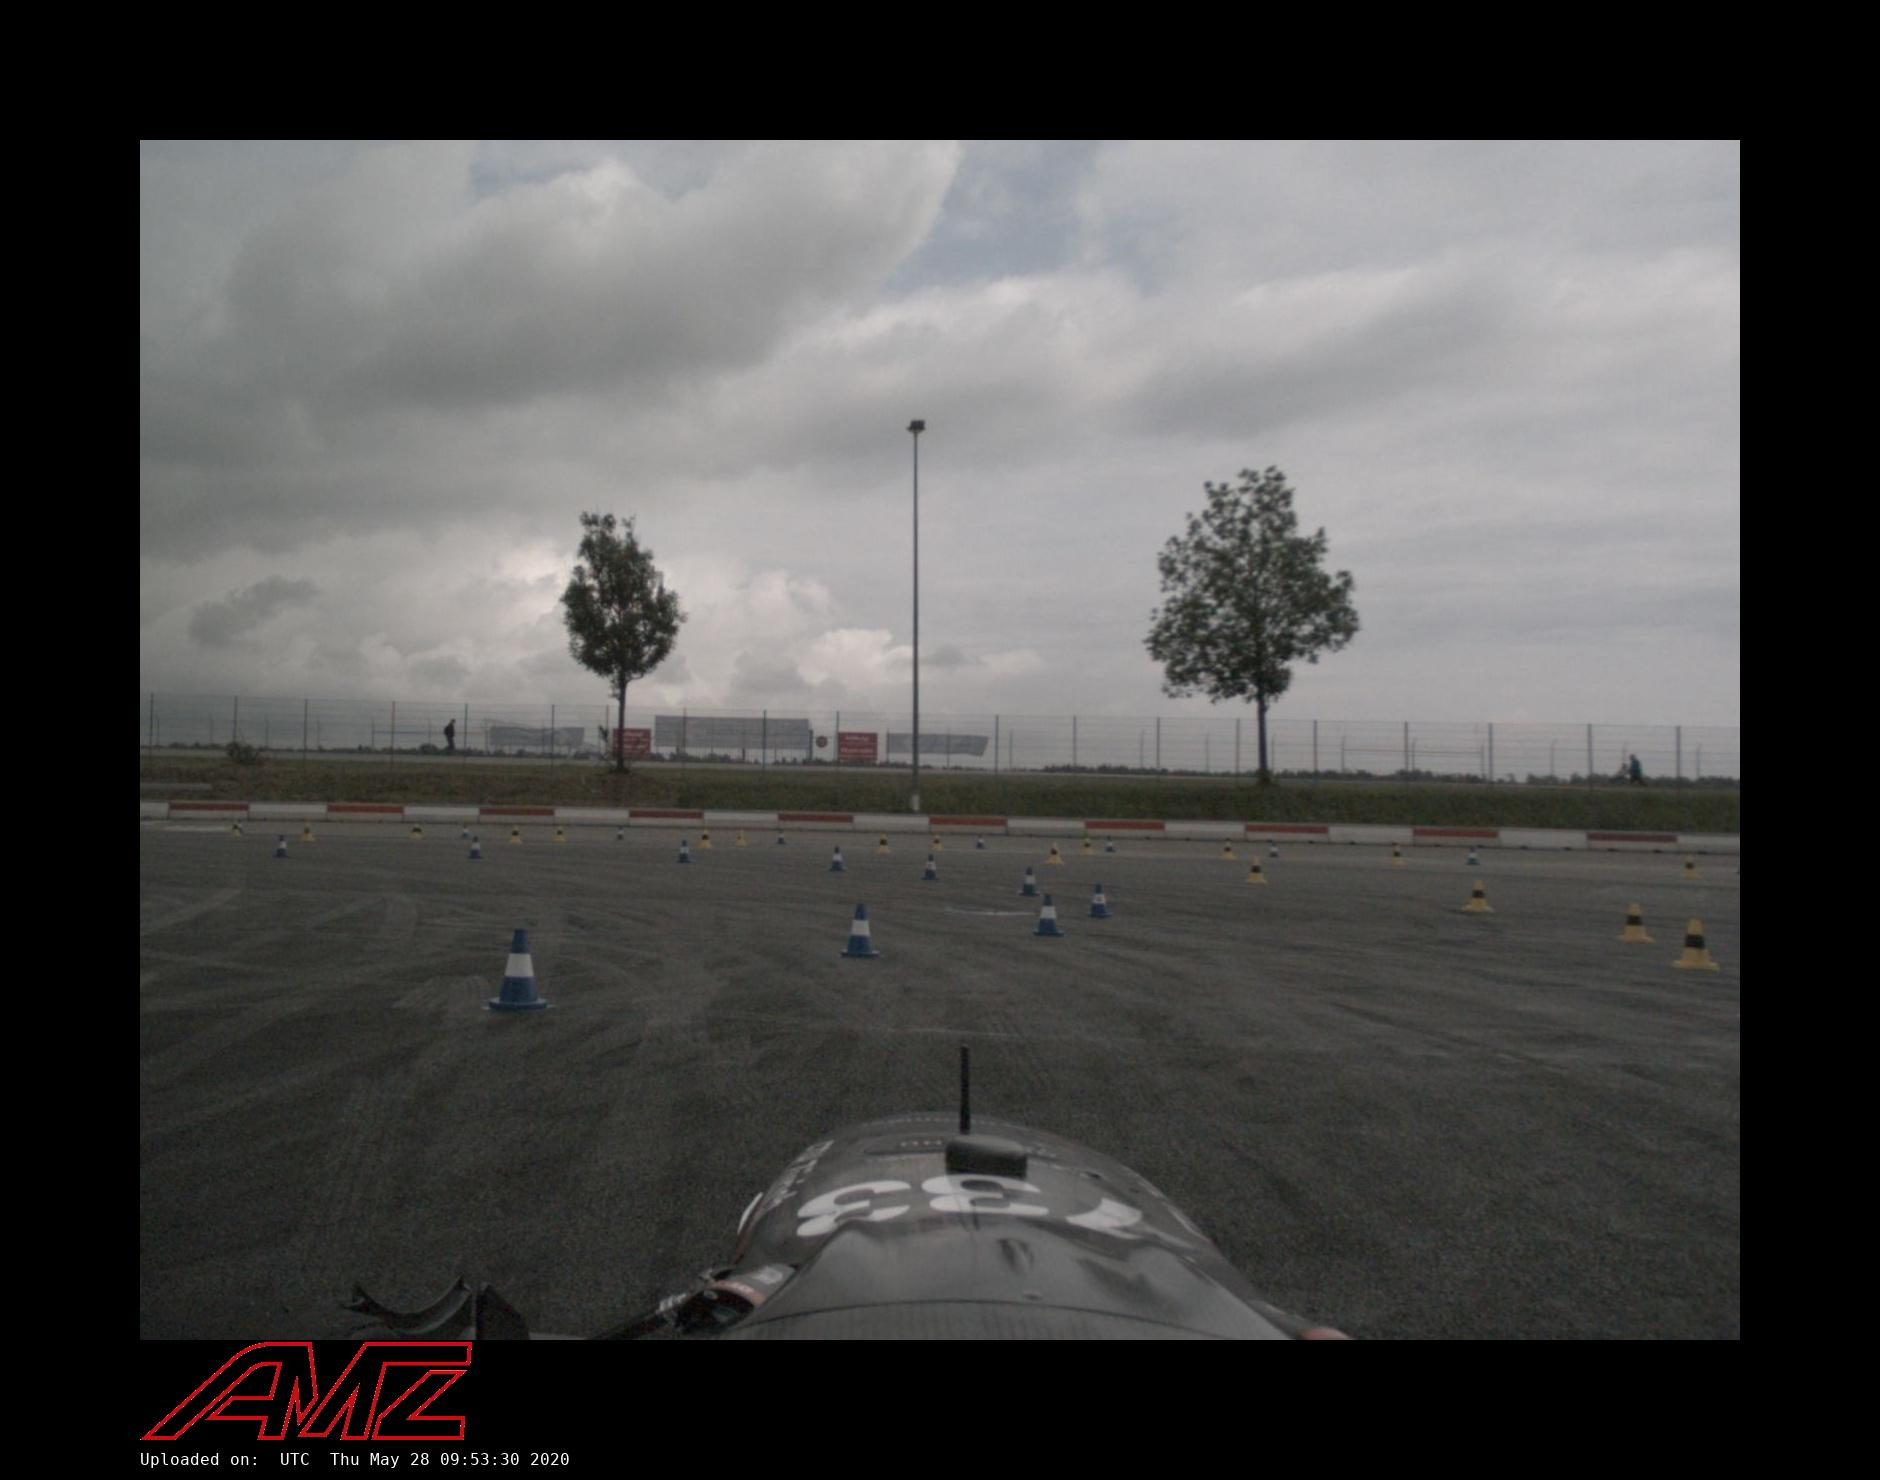blue_cone: (488, 926, 554, 1011), (840, 902, 882, 959), (1031, 893, 1066, 937), (1086, 883, 1113, 919), (1018, 866, 1041, 897), (920, 853, 940, 879), (828, 844, 846, 872), (675, 839, 692, 864), (273, 834, 289, 860), (468, 836, 484, 860), (1465, 847, 1481, 866), (974, 833, 985, 851), (1268, 842, 1280, 858), (460, 823, 470, 840), (775, 829, 786, 844), (615, 826, 625, 841), (1106, 836, 1115, 852)
yellow_cone: (1671, 918, 1721, 972), (1615, 901, 1658, 943), (1462, 879, 1494, 914), (1680, 855, 1702, 881), (1247, 858, 1266, 883), (1045, 841, 1064, 866), (1389, 844, 1404, 867), (698, 828, 713, 851), (300, 820, 315, 843), (876, 833, 892, 854), (1220, 840, 1235, 861), (735, 828, 748, 847), (410, 822, 423, 840), (1083, 837, 1092, 858), (510, 827, 521, 844), (931, 834, 941, 851), (556, 828, 564, 839)
